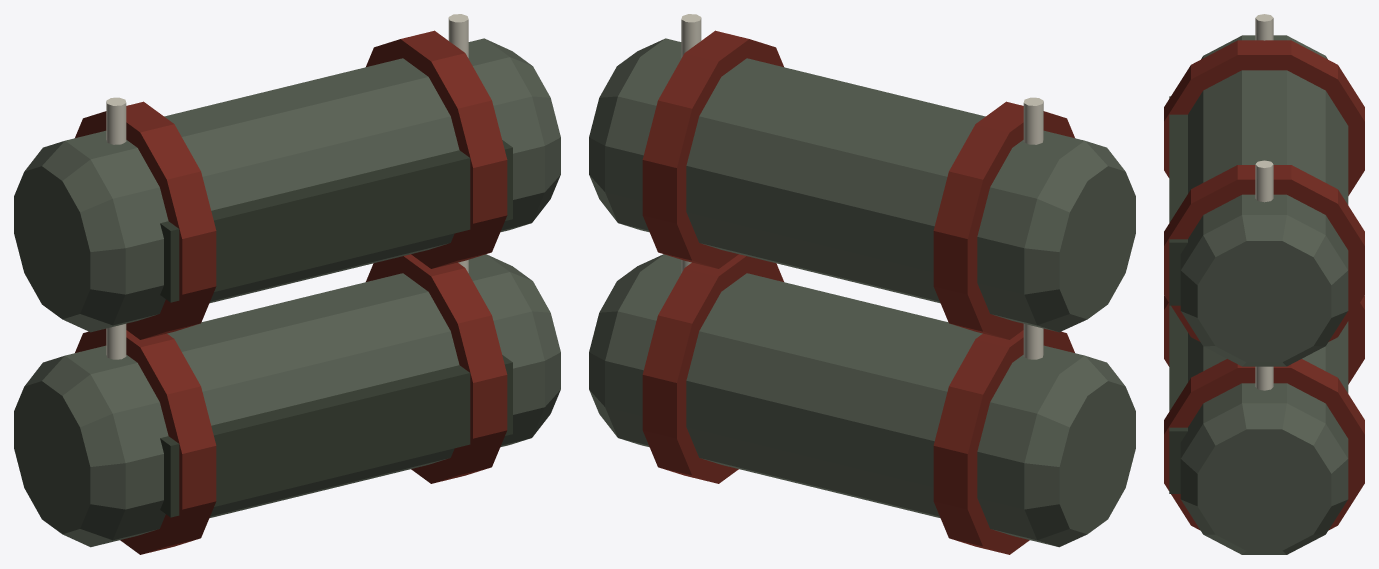
Rendered from s600_starter.obj.
3 renders of one model, left to right at view 1: azimuth 30°, elevation 25°; view 2: azimuth 150°, elevation 25°; view 3: azimuth 270°, elevation 25°, orthographic. The views are drawn at different scales.
Visible parts, largest first — view 1: s600_starter; view 2: s600_starter; view 3: s600_starter.
Boxes of the visible parts, left/top/right/bottom form: s600_starter: left=14, top=14, right=560, bottom=554; s600_starter: left=589, top=14, right=1135, bottom=554; s600_starter: left=1164, top=14, right=1364, bottom=554.
Size of the model in its own units: 1.5 by 1.36 by 0.634.
